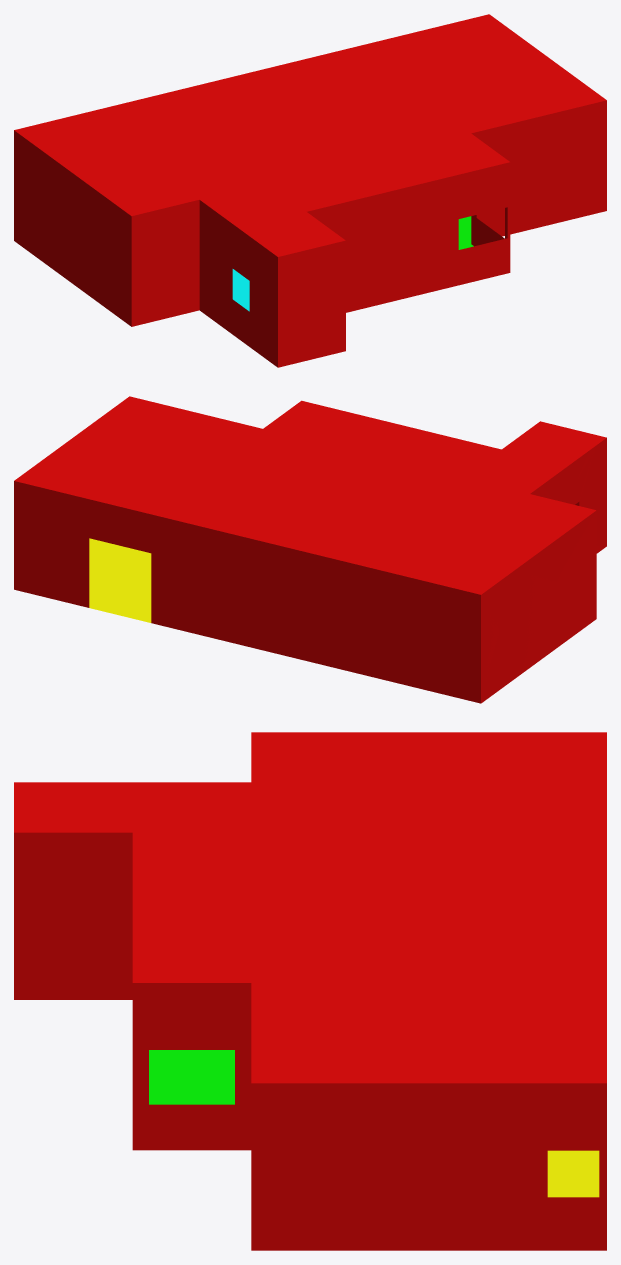
File: Structure.fbx
3 renders of one model, top to bottom at view 1: azimuth 30°, elevation 25°; view 2: azimuth 150°, elevation 25°; view 3: azimuth 270°, elevation 25°, orthographic. The views are drawn at different scales.
Visible parts, largest first — view 1: Ceiling, Wall_Exterior, Wall_3, Wall_4, Wall_1, Floor; view 2: Ceiling, Wall_Exterior, Wall_2, Wall_1, Wall_4, Floor; view 3: Ceiling, Wall_Exterior, Wall_2, Wall_3, Wall_4, Floor.
Boxes of the visible parts, x1,y1,x2,y2 form: Ceiling: (14,14,606,256); Wall_Exterior: (14,102,606,367); Wall_3: (374,100,606,305); Wall_4: (53,186,374,367); Wall_1: (14,131,53,251); Floor: (232,216,473,311); Ceiling: (14,396,606,594); Wall_Exterior: (14,438,606,703); Wall_2: (14,481,280,653); Wall_1: (281,546,519,702); Wall_4: (520,438,606,674); Floor: (89,538,151,622); Ceiling: (14,732,606,1083); Wall_Exterior: (14,832,606,1250); Wall_2: (369,1083,606,1250); Wall_3: (134,983,369,1250); Wall_4: (14,832,234,1049); Floor: (149,1050,599,1197).
Size of the model in its own units: 1468 by 327 by 1049.
